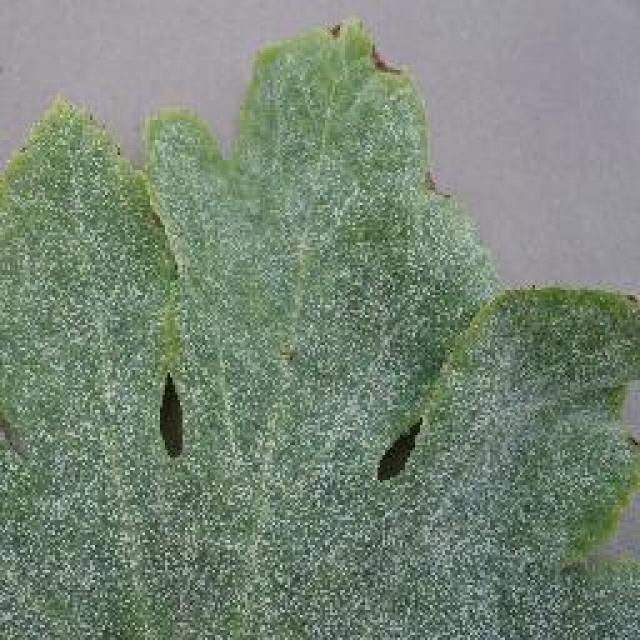Squ_Powdery_mildew: (31, 197, 525, 631)
